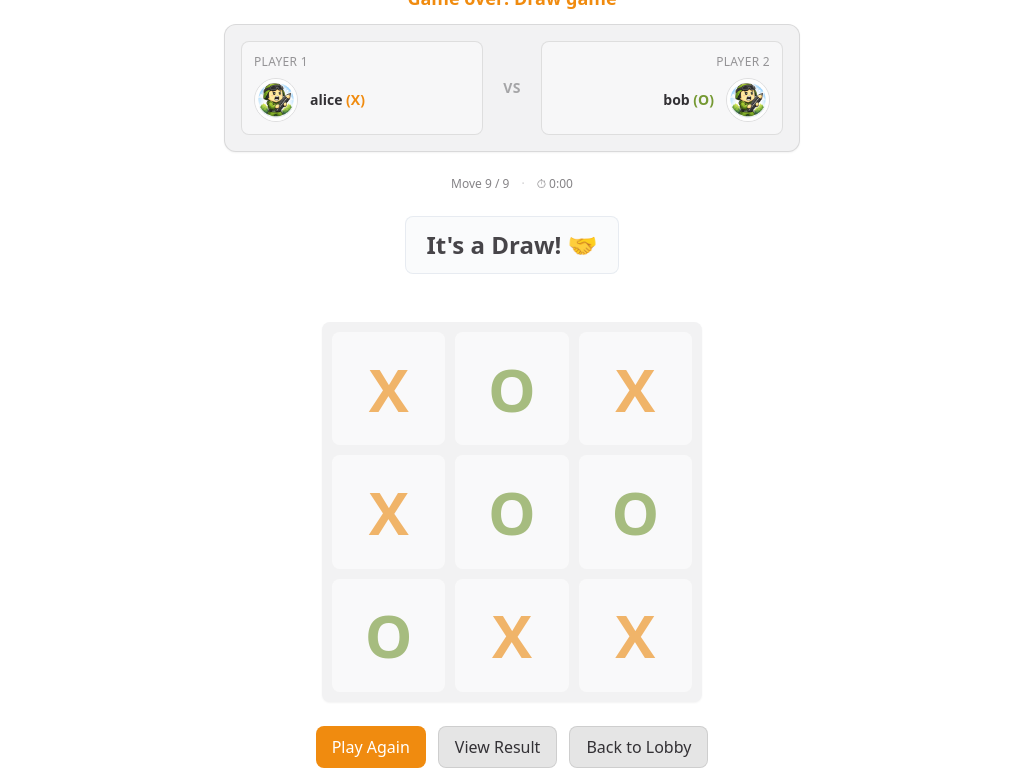
Test case: Game page socket wiring › shows game over modal when View Result is clicked and closes when user clicks close button
(page scrolled)
Click the button "View Result": (498, 747) x1=438 y1=726 x2=557 y2=767
(page scrolled)
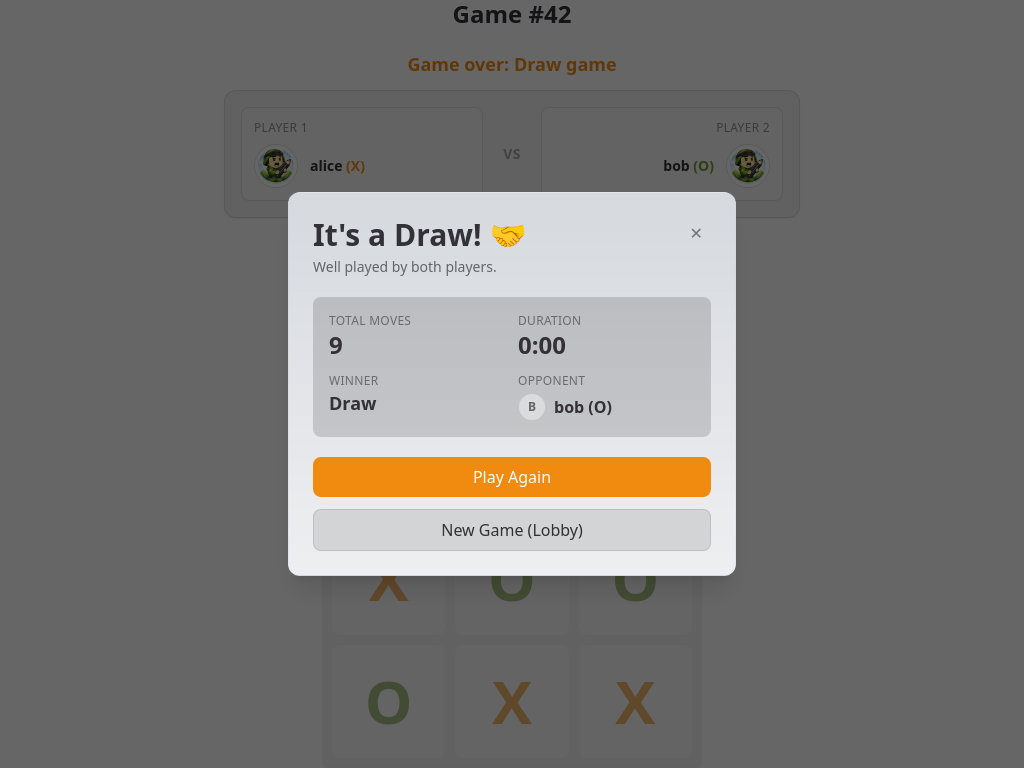
Result: the dialog with test id "game-over-modal" is shown
Result: the heading "It's a Draw! 🤝" is shown at x1=313 y1=217 x2=527 y2=253
Result: the text "bob (O)" is shown at x1=554 y1=395 x2=612 y2=419
Click the button named "close game over modal": (696, 233) x1=682 y1=217 x2=711 y2=249
(page scrolled)
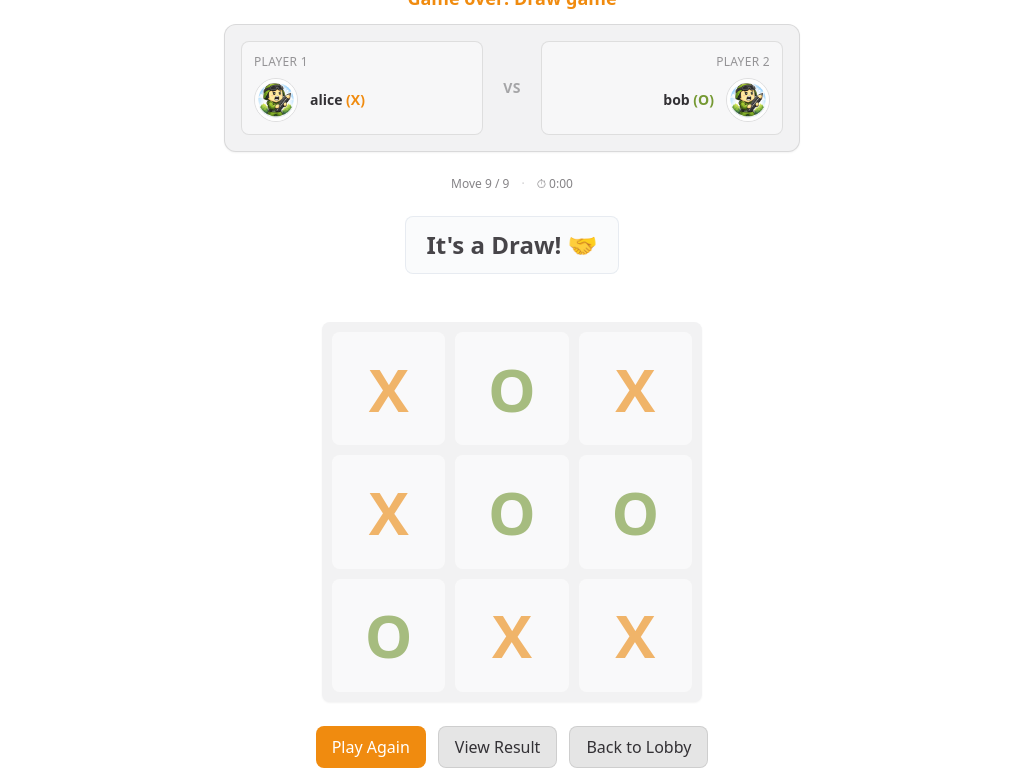
Result: the dialog with test id "game-over-modal" is gone
Result: the button "View Result" is shown at x1=438 y1=726 x2=557 y2=767
